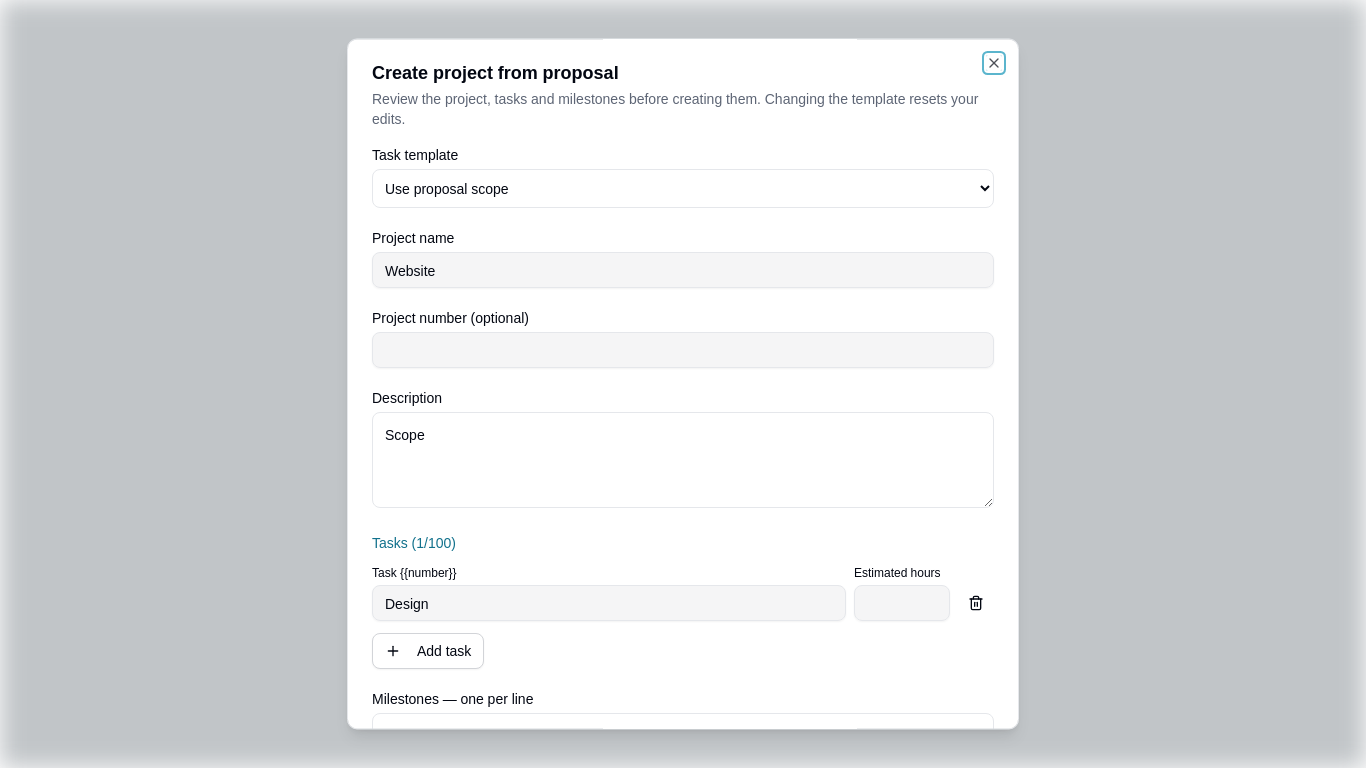
Test case: proposal conversion review › hides budgets from managers and reloads the chosen template
Expected: the field labelled "Project name" is shown, [372, 252, 994, 288]
Select "Standard" in the dropdown labelled "Task template" at (683, 189), box [372, 169, 994, 208]
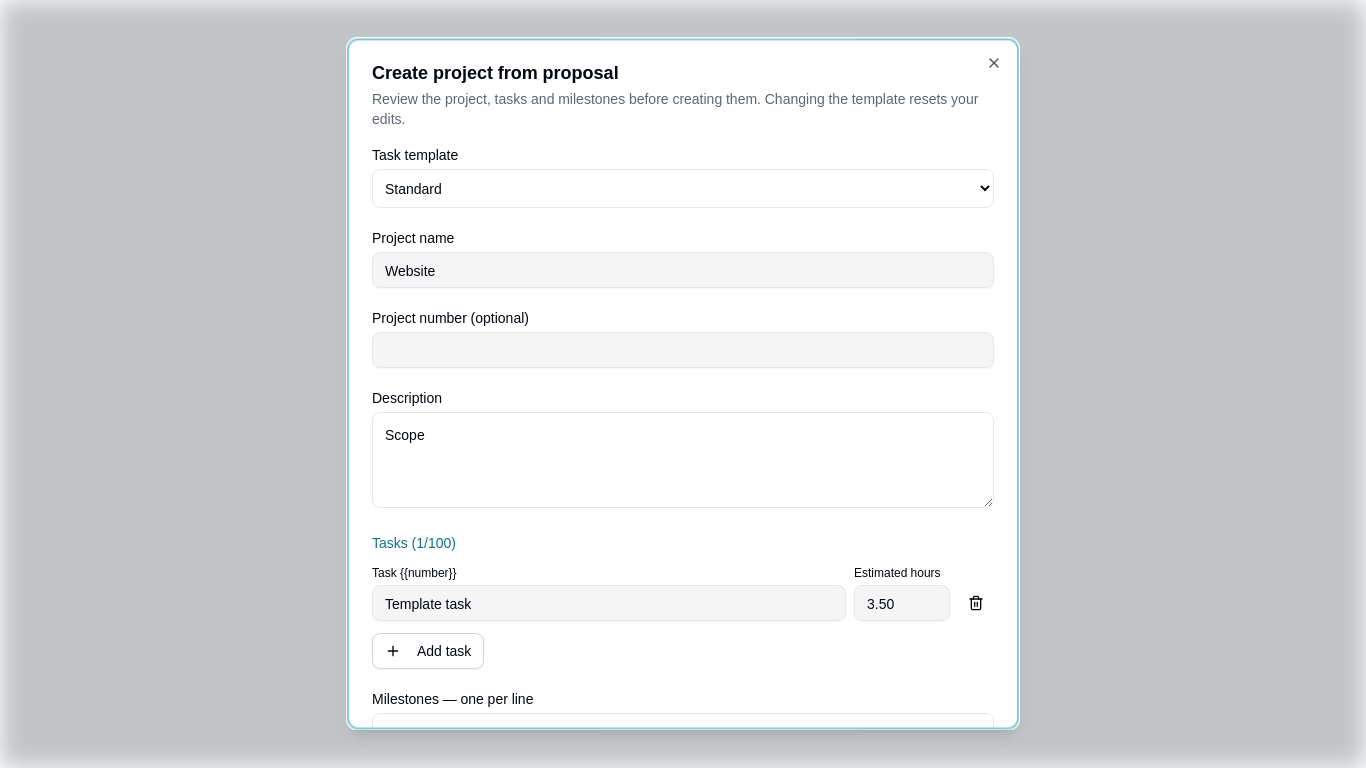
Result: the field showing "Template task" is shown at [372, 585, 846, 621]
